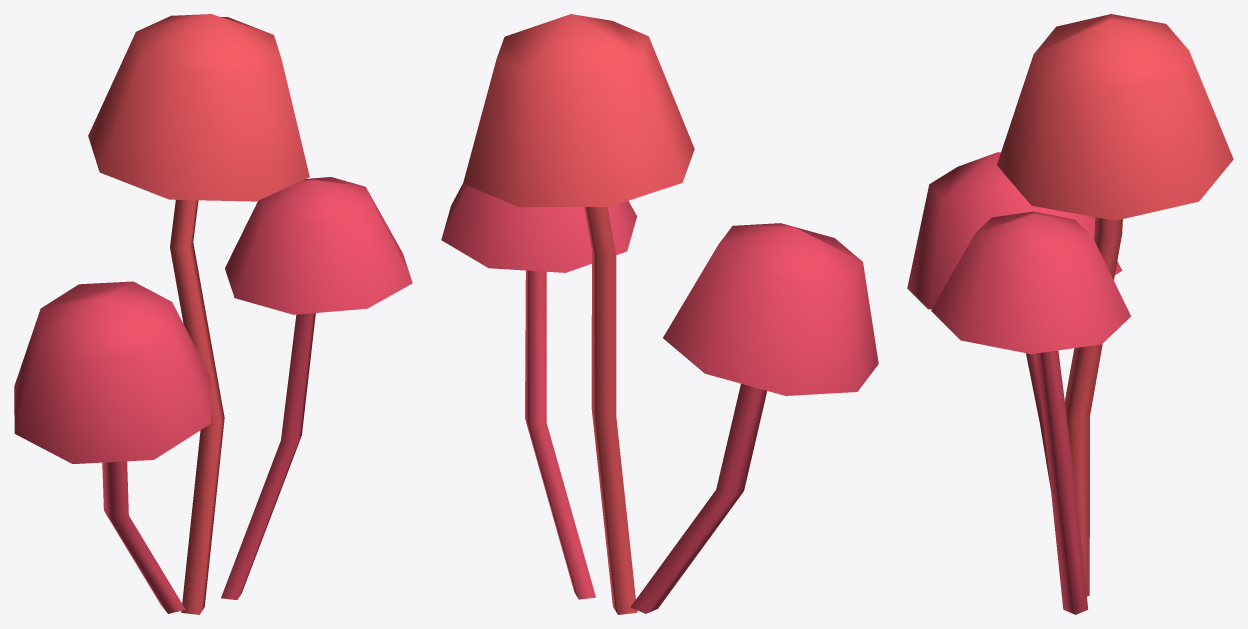
Rendered from mushroom2.fbx.
3 renders of one model, left to right at view 1: azimuth 30°, elevation 25°; view 2: azimuth 150°, elevation 25°; view 3: azimuth 270°, elevation 25°, orthographic. The views are drawn at different scales.
Parts seen in each view (by area): view 1: Mushroom_c_05; view 2: Mushroom_c_05; view 3: Mushroom_c_05.
Boxes of the visible parts, <box> form: Mushroom_c_05: <box>14,14,412,614</box>; Mushroom_c_05: <box>441,14,878,614</box>; Mushroom_c_05: <box>907,14,1233,614</box>.
Bounding box in the file's own units: 20.3 × 28.75 × 40.61.
Materials: 1 (1 with a texture image).
